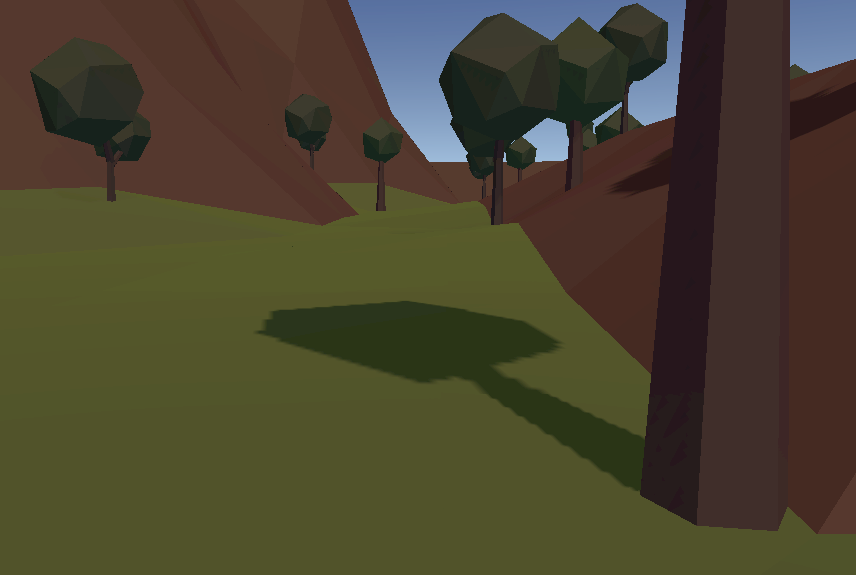tree: (638, 1, 796, 536), (29, 35, 170, 204), (446, 10, 560, 215), (276, 90, 344, 169), (356, 114, 410, 213), (448, 149, 498, 206), (505, 136, 541, 179)
